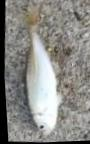fish: (22, 15, 60, 135)
